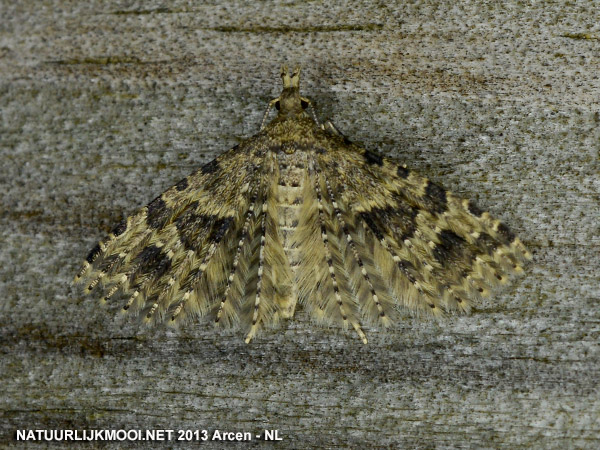Alucitidae: (61, 66, 530, 361)
moth: (59, 64, 528, 359)
